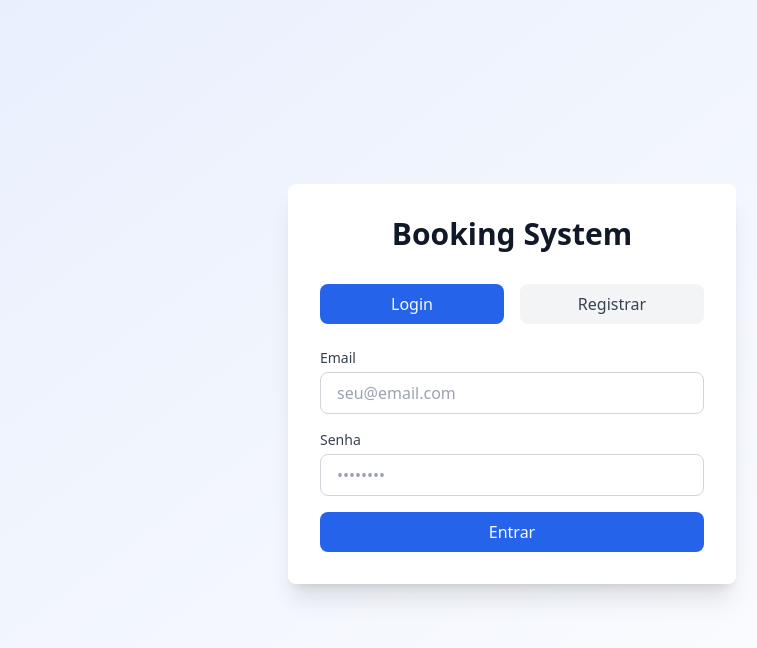
it: LoginPage › deve validar campos obrigatórios no login
The width and height of the screenshot is (757, 648).
Click the button "Entrar". click: [512, 532]
box: [320,512,704,552]
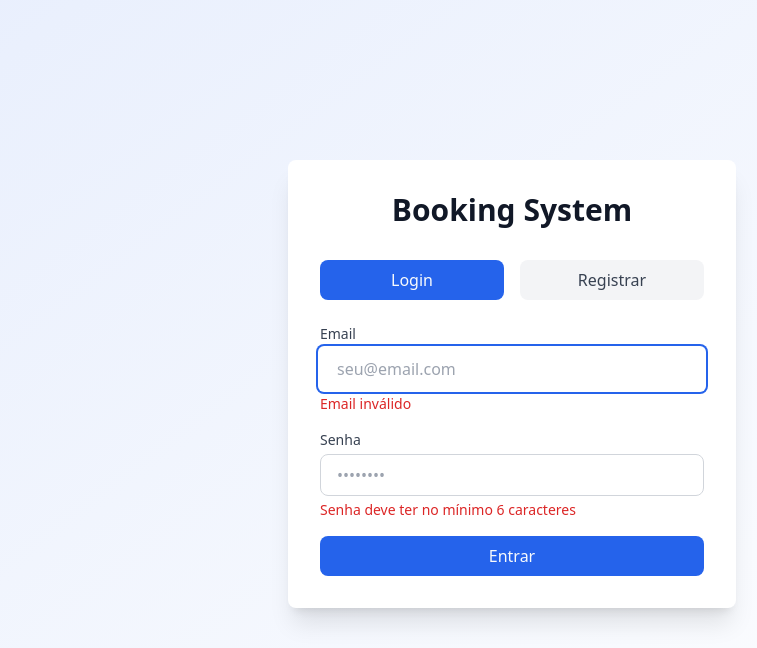
Check: the text "Email inválido" is shown, box [320,394,411,413]
